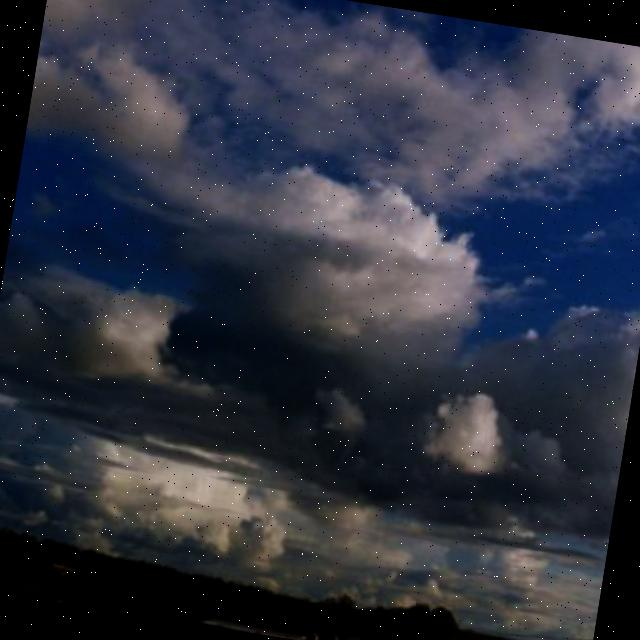Cu: (1, 55, 640, 589)
